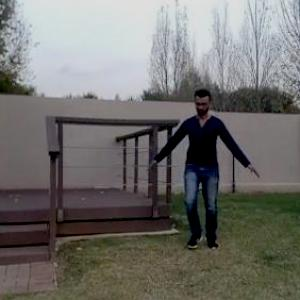land: (143, 74, 254, 267)
